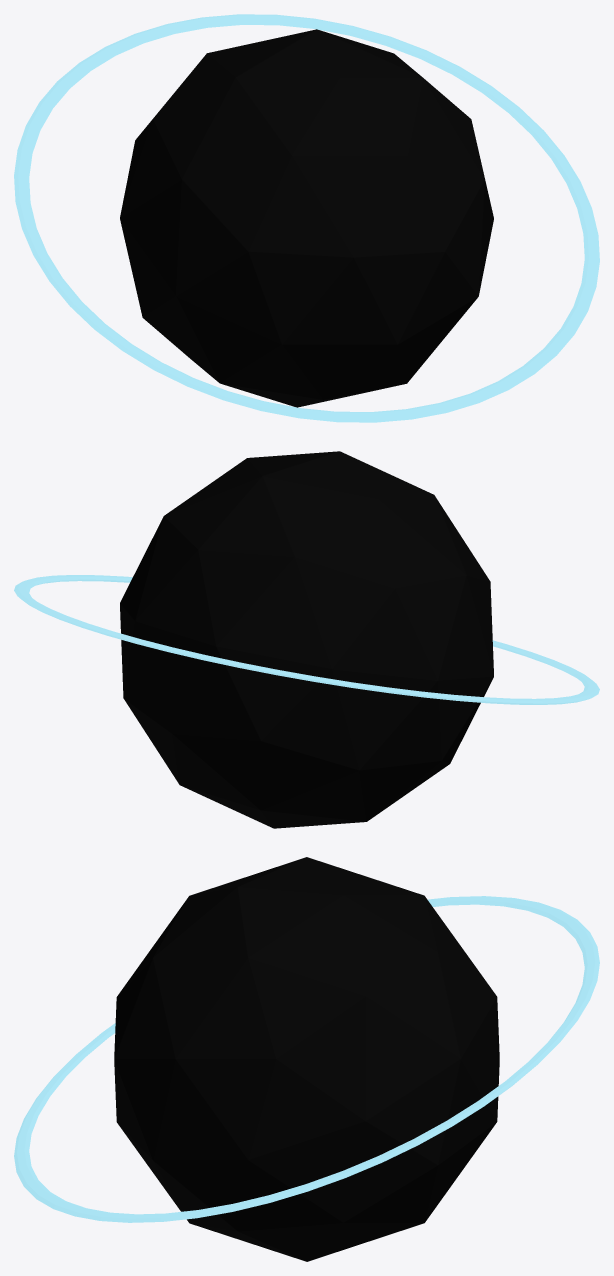
File: BlackHole.glb
The picture shows the model from 3 angles, top to bottom: view 1: azimuth 30°, elevation 25°; view 2: azimuth 150°, elevation 25°; view 3: azimuth 270°, elevation 25°; orthographic projection. The views are drawn at different scales.
Visible parts, largest first — view 1: BlackHole, BlackHole_Ring; view 2: BlackHole, BlackHole_Ring; view 3: BlackHole, BlackHole_Ring.
Part boxes in pixels (x1,y1,x2,y2): BlackHole: (120,29,493,407); BlackHole_Ring: (14,14,599,422); BlackHole: (120,451,493,828); BlackHole_Ring: (14,575,599,704); BlackHole: (114,857,499,1261); BlackHole_Ring: (14,896,599,1222).
Bounding box in the file's own units: 3.08 × 1.94 × 2.89.
